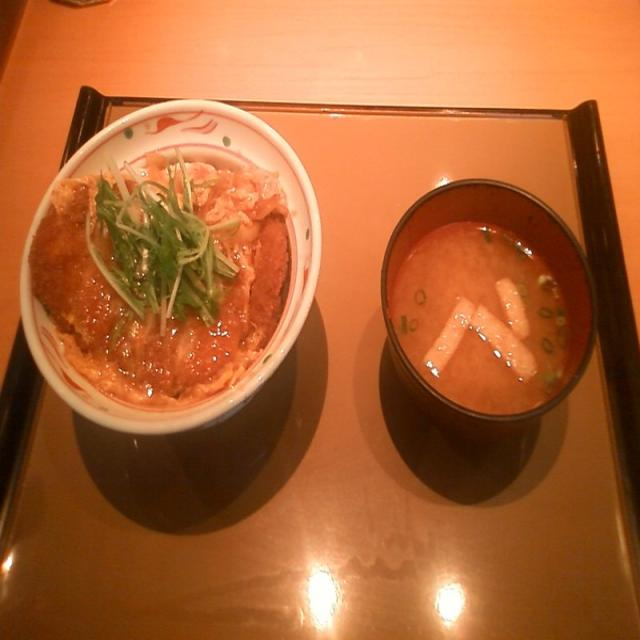汤锅炖物: (385, 206, 578, 414)
